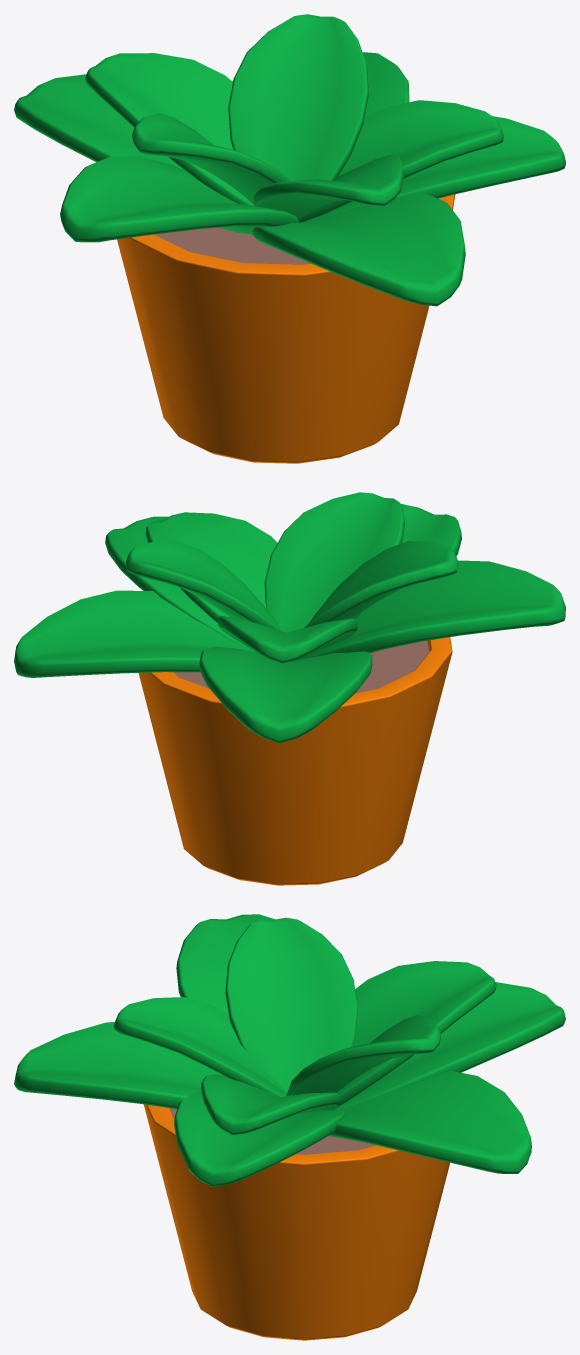
Rendered from Store_6_Plant_8.glb.
3 renders of one model, top to bottom at view 1: azimuth 30°, elevation 25°; view 2: azimuth 150°, elevation 25°; view 3: azimuth 270°, elevation 25°, orthographic. The views are drawn at different scales.
Parts seen in each view (by area): view 1: Store_6_Plant_8; view 2: Store_6_Plant_8; view 3: Store_6_Plant_8.
Part boxes in pixels (x1=…): Store_6_Plant_8: x1=14, y1=14, x2=565, y2=463; Store_6_Plant_8: x1=14, y1=492, x2=565, y2=885; Store_6_Plant_8: x1=14, y1=914, x2=565, y2=1340.
Bounding box in the file's own units: 0.8142 × 0.5261 × 0.8523.
Materials: 1 (1 with a texture image).
